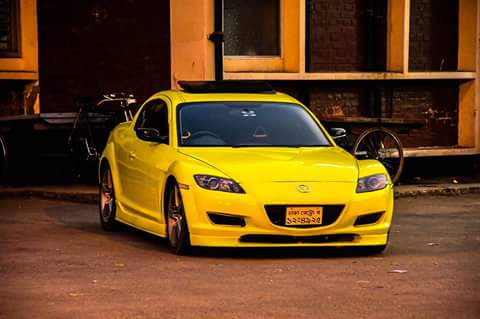registration_plate: (285, 206, 323, 226)
